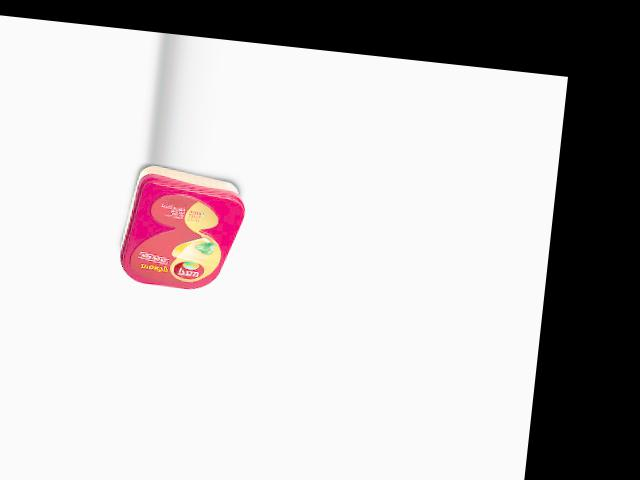cheese: (117, 163, 249, 294)
